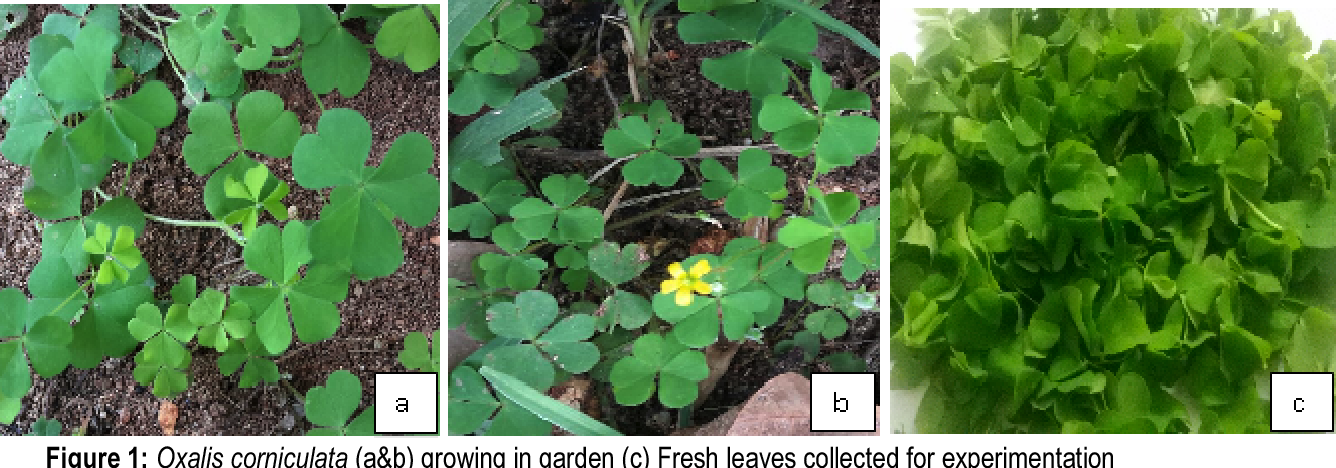oxalis: (461, 32, 877, 441), (24, 14, 413, 365), (918, 57, 1270, 385)
